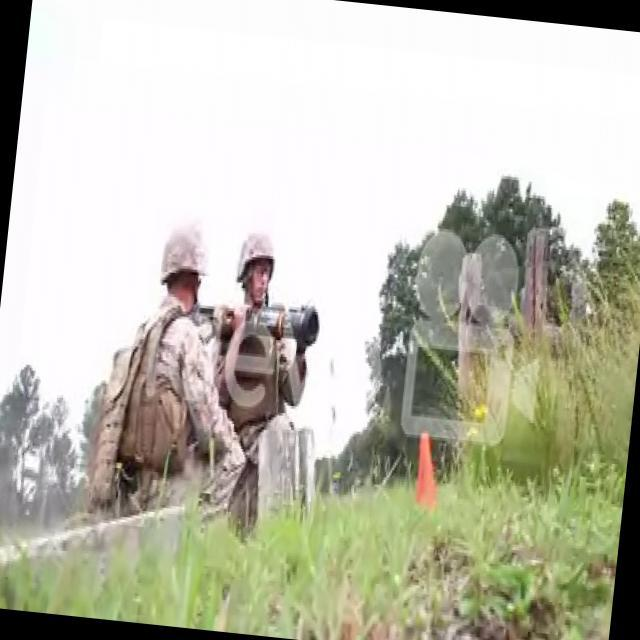rocket: (200, 297, 319, 349)
